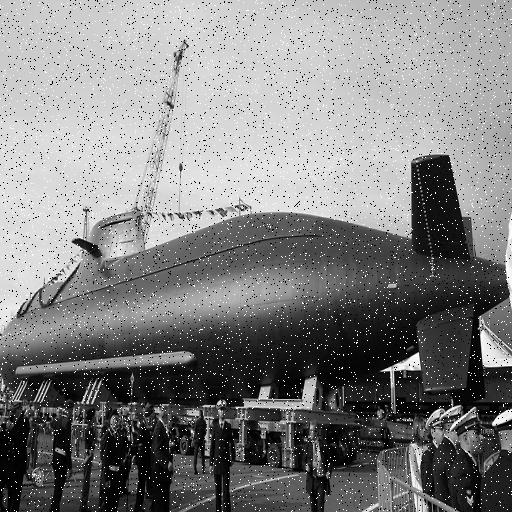submarine: (1, 145, 512, 406)
